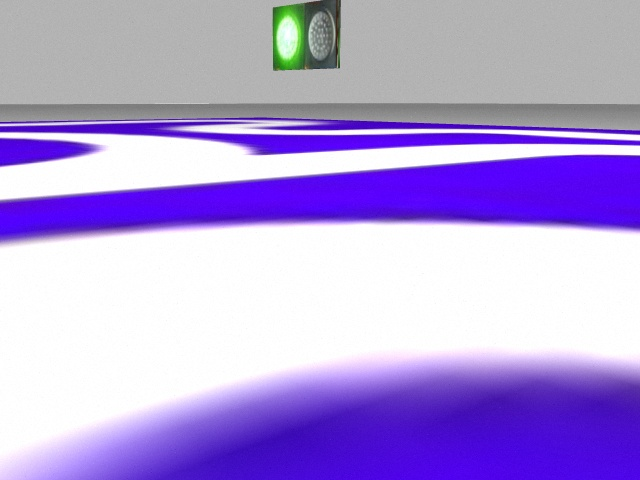green: (272, 6, 307, 70)
